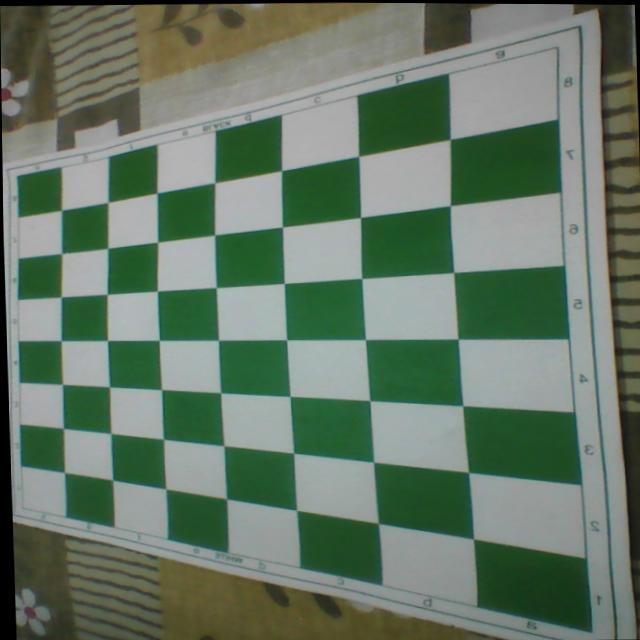square: (468, 540, 594, 637), (444, 44, 562, 137), (466, 471, 588, 559), (444, 118, 562, 203), (459, 405, 581, 487), (445, 192, 563, 273), (456, 337, 578, 414), (450, 264, 570, 341), (375, 525, 477, 610), (371, 462, 473, 542), (353, 72, 451, 154), (353, 138, 453, 217), (356, 205, 456, 279), (368, 400, 468, 473), (364, 339, 464, 410), (293, 511, 383, 587), (360, 273, 459, 340), (289, 453, 379, 526), (273, 95, 361, 169), (273, 156, 361, 226), (287, 396, 374, 465), (279, 218, 367, 283), (283, 340, 370, 404), (222, 500, 303, 568), (207, 168, 289, 235), (281, 279, 365, 341), (217, 394, 299, 457), (221, 445, 297, 512), (209, 113, 285, 179), (215, 340, 291, 402), (212, 283, 292, 341), (211, 226, 285, 288), (150, 128, 220, 193), (162, 491, 229, 555), (161, 439, 226, 500), (153, 236, 220, 293), (152, 183, 216, 242), (158, 390, 224, 447), (155, 342, 219, 397), (103, 142, 161, 202), (153, 288, 217, 342), (107, 435, 167, 491), (101, 193, 162, 248), (112, 481, 167, 539), (56, 155, 113, 210), (102, 291, 162, 342), (61, 471, 115, 527), (107, 386, 163, 440), (104, 340, 162, 392), (102, 243, 160, 294), (56, 248, 111, 298), (57, 338, 112, 387), (62, 428, 112, 481), (59, 384, 112, 433), (10, 166, 62, 215), (58, 203, 109, 252), (57, 295, 109, 341), (11, 254, 61, 299), (20, 466, 64, 517), (16, 424, 63, 471), (17, 211, 61, 259), (18, 383, 63, 429), (13, 340, 60, 384), (17, 297, 60, 340)
